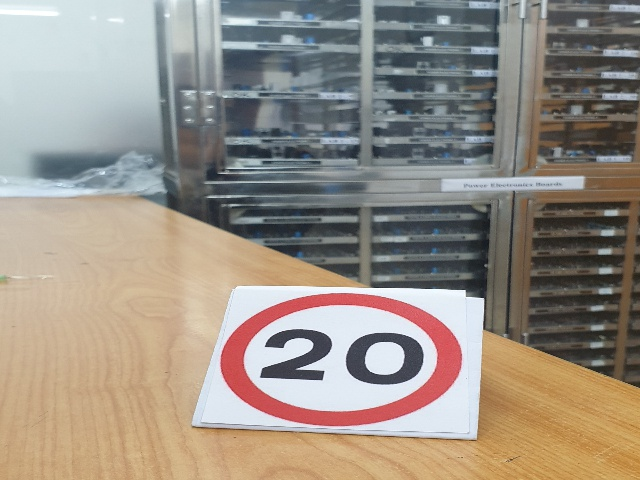Limit 20: (221, 294, 463, 425)
